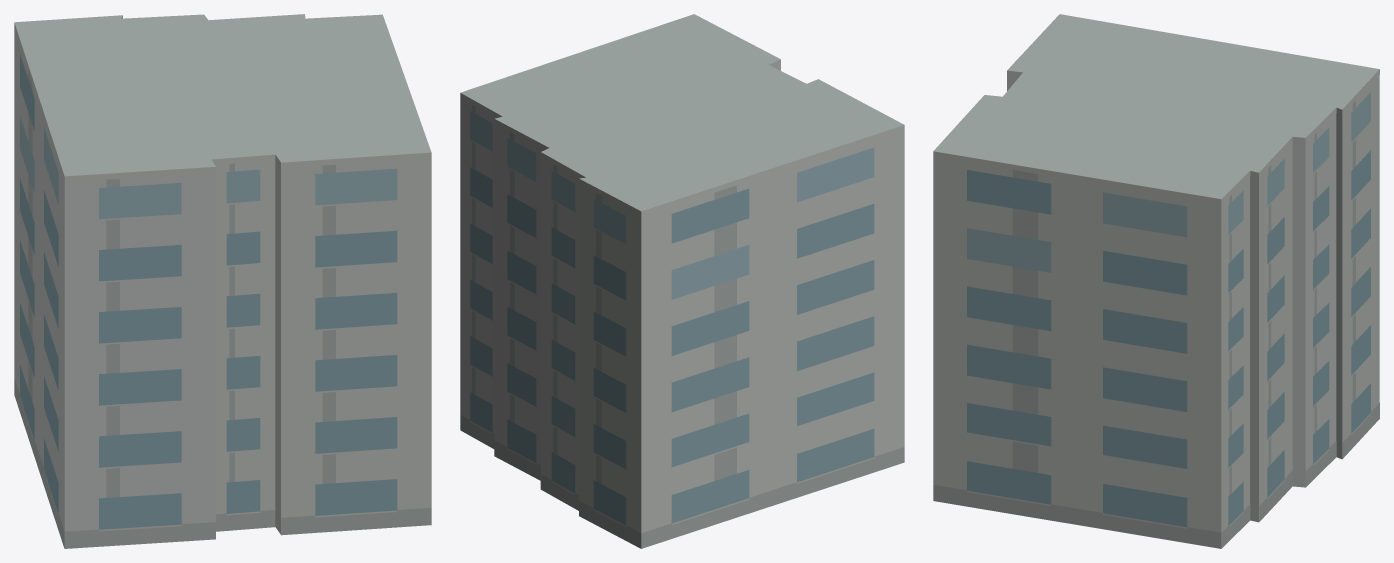
The model's file is survey-upis-32502100.glb.
The picture shows the model from 3 angles, left to right: view 1: azimuth 30°, elevation 25°; view 2: azimuth 150°, elevation 25°; view 3: azimuth 270°, elevation 25°; orthographic projection. The views are drawn at different scales.
Visible parts, largest first — view 1: survey-upis-32502100.tmp; view 2: survey-upis-32502100.tmp; view 3: survey-upis-32502100.tmp.
Boxes of the visible parts, <box> form: survey-upis-32502100.tmp: <box>14,14,431,548</box>; survey-upis-32502100.tmp: <box>460,14,904,548</box>; survey-upis-32502100.tmp: <box>933,14,1379,548</box>.
Size of the model in its own units: 17.79 by 15.65 by 18.12.
